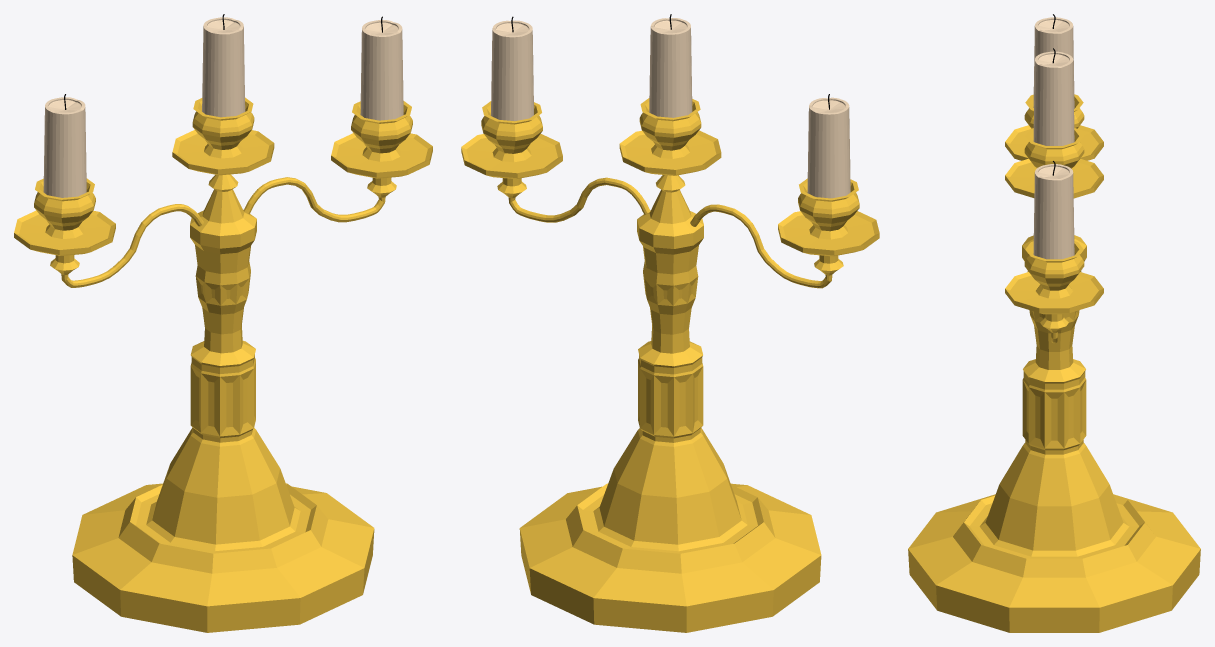
Rendered from Candlestick.fbx.
3 views of the same model, side by side, from view 1: azimuth 30°, elevation 25°; view 2: azimuth 150°, elevation 25°; view 3: azimuth 270°, elevation 25° (orthographic). The views are drawn at different scales.
Parts seen in each view (by area): view 1: MAIN, DETACH, pd, ld, sd; view 2: MAIN, DETACH, ld, pd, sd; view 3: MAIN, DETACH, pd, sd, ld.
Part boxes in pixels (bbox=[...]): MAIN: bbox=[14, 97, 374, 632]; DETACH: bbox=[243, 101, 432, 222]; pd: bbox=[360, 20, 403, 120]; ld: bbox=[43, 97, 86, 197]; sd: bbox=[202, 17, 245, 117]; MAIN: bbox=[519, 98, 879, 632]; DETACH: bbox=[461, 101, 650, 222]; ld: bbox=[807, 97, 850, 198]; pd: bbox=[491, 20, 533, 121]; sd: bbox=[649, 18, 692, 117]; MAIN: bbox=[908, 94, 1200, 632]; DETACH: bbox=[1005, 241, 1103, 343]; pd: bbox=[1033, 164, 1074, 259]; sd: bbox=[1033, 51, 1074, 145]; ld: bbox=[1033, 17, 1074, 108].
Size of the model in its own units: 305 by 402 by 203.
